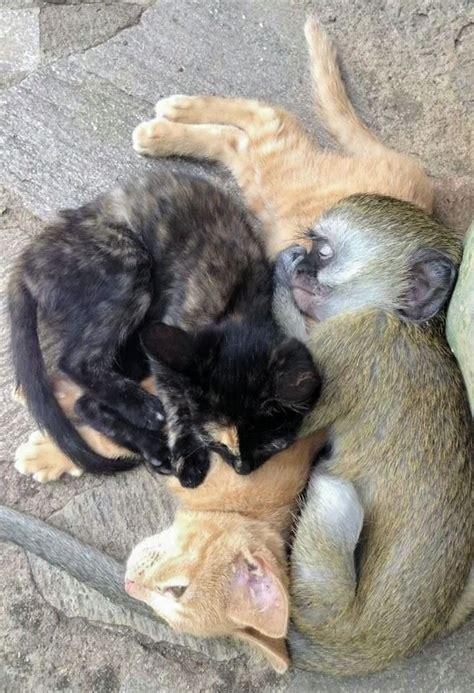cat: (14, 173, 319, 485), (123, 473, 291, 672)
monkey: (275, 193, 474, 677)
